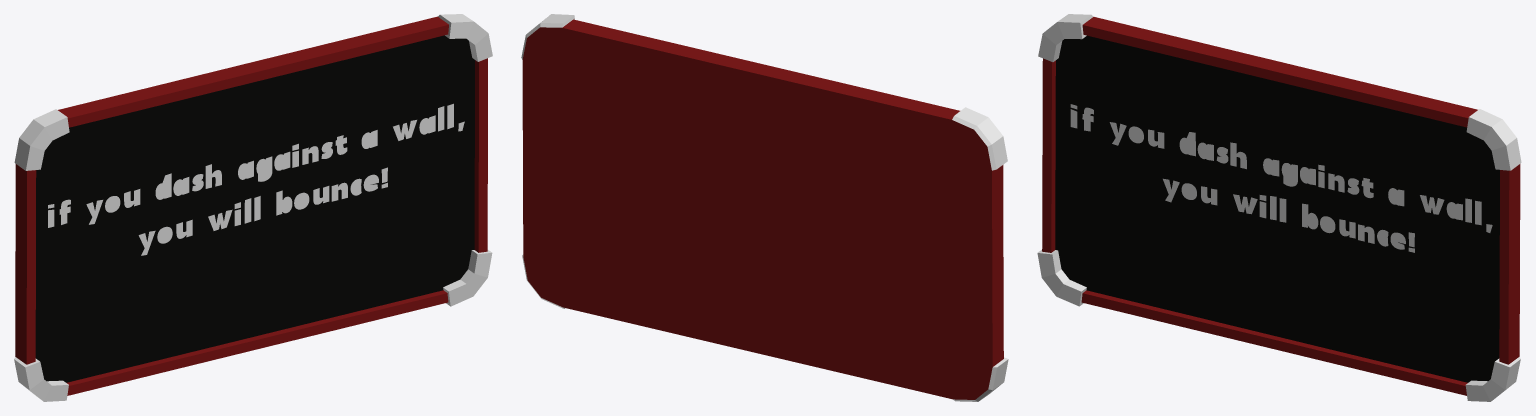
Rendered from Tuto4.FBX.
3 renders of one model, left to right at view 1: azimuth 30°, elevation 25°; view 2: azimuth 150°, elevation 25°; view 3: azimuth 330°, elevation 25°, orthographic.
Parts seen in each view (by area): view 1: Pizarra 6, Text3; view 2: Pizarra 6; view 3: Pizarra 6, Text3.
Boxes of the visible parts, x1=… form: Pizarra 6: x1=14, y1=14, x2=492, y2=401; Text3: x1=48, y1=103, x2=464, y2=255; Pizarra 6: x1=521, y1=14, x2=1008, y2=401; Pizarra 6: x1=1037, y1=14, x2=1521, y2=401; Text3: x1=1070, y1=104, x2=1492, y2=252.
Bounding box in the file's own units: 77.68 × 44.99 × 4.52.
